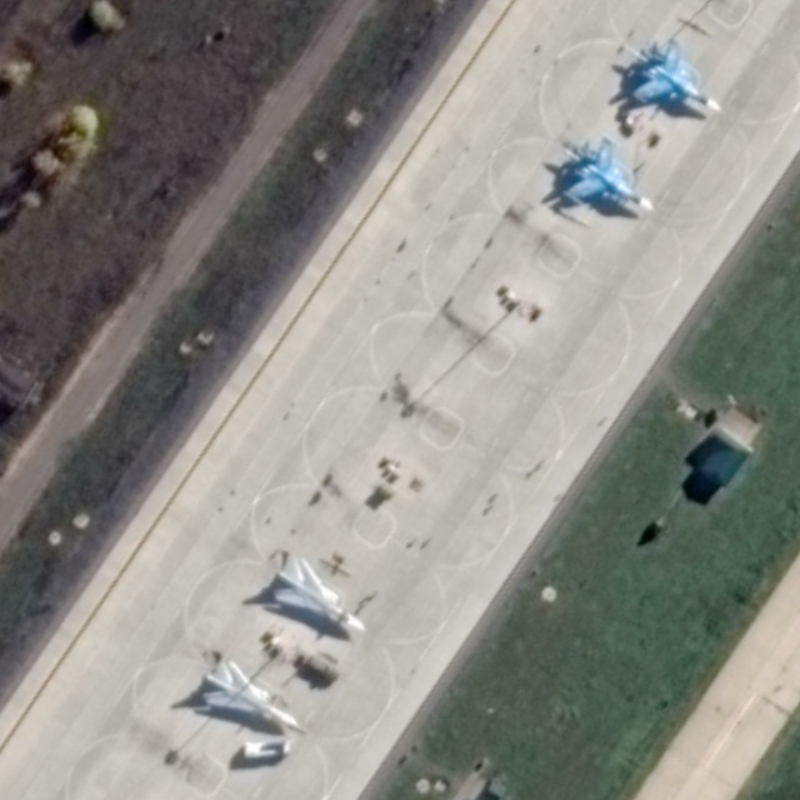A19: (559, 135, 659, 215), (628, 39, 726, 114)
A20: (270, 556, 370, 634), (200, 658, 302, 729)
